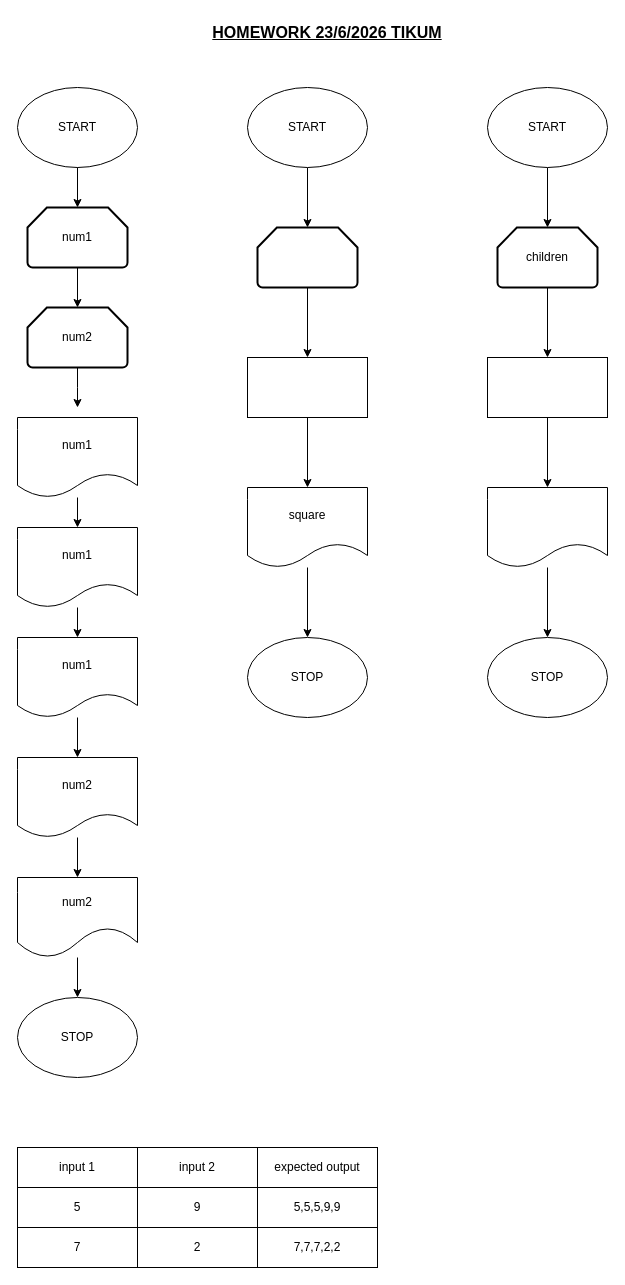
Image size: 625x1285. Some labels were removed from this diagram. Here are the shapes that lost their labels. From the top down, the box of each, then its label:
(256, 226, 358, 288): num
(246, 356, 368, 418): square=num*num
(486, 356, 608, 418): cars=children/5
(486, 486, 608, 568): cars
